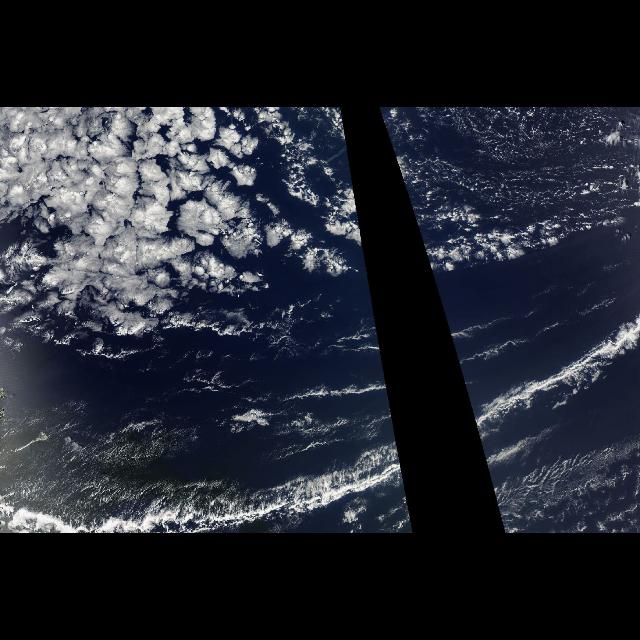Flower: (1, 107, 363, 359)
Gravel: (402, 107, 626, 241)
Sugar: (3, 407, 413, 533), (472, 407, 638, 533)
